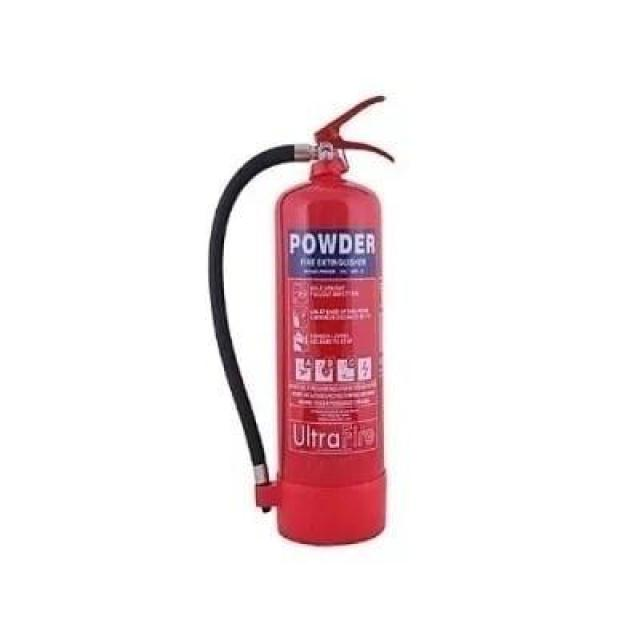fire_extinguisher: (198, 84, 399, 553)
